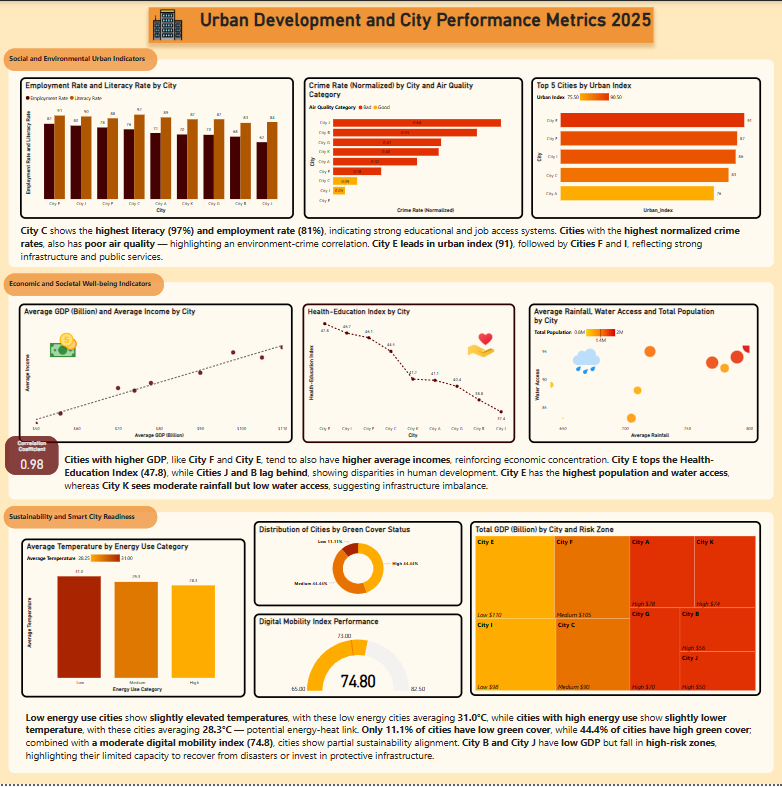

The page's visual inventory and layout, read from the dashboard file:
{"tool":"powerbi","page":{"name":"Page 1","canvas":[2160,2160],"ordinal":0},"visuals":[{"type":"shape","box":[410,18,1392,98],"z":0},{"type":"shape","box":[25,1408.3,2108.3,718.3],"z":1000},{"type":"shape","box":[25,775,2108.3,598.3],"z":2000},{"type":"shape","box":[25,161.2,2108.8,571.2],"z":3000},{"type":"image","box":[115.7,901.4,115.7,94.3],"z":4000},{"type":"image","box":[1276.7,901.7,101.7,93.3],"z":5000},{"type":"image","box":[1560,942.9,111.4,100],"z":6000},{"type":"textbox","box":[514,18,1288,98],"z":7000},{"type":"clusteredColumnChart","fields":{"Category":["Sheet2.City"],"Y":["Avg(Sheet2.Employment_Rate)","Avg(Sheet2.Literacy_Rate)"]},"box":[56.7,210,755,390],"z":8000},{"type":"scatterChart","fields":{"Category":["Sheet2.City"],"X":["Avg(Sheet2.GDP_Billion)"],"Y":["Avg(Sheet2.Avg_Income)"]},"box":[50,835,755,385],"z":9000},{"type":"barChart","fields":{"Category":["Sheet2.City"],"Y":["Sum(Sheet2.Crime_Rate_Normalized)"],"Series":["Sheet2.Air_Quality_Category"]},"box":[838.3,210,605,390],"z":10000},{"type":"donutChart","fields":{"Category":["Sheet2.Green_Cover_Category"],"Y":["CountNonNull(Sheet2.City)"]},"box":[701.2,1435.2,575,235],"z":11000},{"type":"lineChart","fields":{"Category":["Sheet2.City"],"Y":["Avg(Sheet2.HealthEdu_Index)"]},"box":[833.3,835,586.7,385],"z":12000},{"type":"columnChart","fields":{"Category":["Sheet2.Energy_Use_Category"],"Y":["Avg(Sheet2.Temperature)"]},"box":[58.3,1481.7,618.3,438.3],"z":13000},{"type":"gauge","title":"Digital Mobility Index Performance","fields":{"Y":["Avg(Sheet2.Digital_Mobility_Index)"],"MinValue":["Min(Sheet2.Digital_Mobility_Index)1"],"MaxValue":["Max(Sheet2.Digital_Mobility_Index)2"],"TargetValue":["Median(Sheet2.Digital_Mobility_Index)3"]},"box":[701.2,1687.7,575,232.5],"z":14000},{"type":"scatterChart","fields":{"Category":["Sheet2.City"],"X":["Avg(Sheet2.Rainfall)"],"Y":["Avg(Sheet2.Water_Access)"],"Size":["Sum(Sheet2.Population)"]},"box":[1458.3,835,633.3,385],"z":15000},{"type":"treemap","fields":{"Group":["Sheet2.City"],"Values":["Sum(Sheet2.GDP_Billion)"],"Details":["Sheet2.Risk_Zone"]},"box":[1296.2,1435.2,802.5,482.5],"z":16000},{"type":"clusteredBarChart","title":"Top 5 Cities by Urban Index","fields":{"Category":["Sheet2.City"],"Y":["Avg(Sheet2.Urban_Index)"]},"box":[1463.3,210,633.3,390],"z":17000},{"type":"textbox","box":[50,610,2035,122.5],"z":18000},{"type":"textbox","box":[65,1951.7,2035,175],"z":19000},{"type":"textbox","box":[174,1242,1906,132],"z":20000},{"type":"textbox","box":[11.7,131.7,423.3,61.7],"z":21000},{"type":"textbox","box":[11.2,752.5,441.2,61.2],"z":22000},{"type":"textbox","box":[11.7,1391.7,423.3,61.7],"z":23000},{"type":"image","box":[410,18,104,98],"z":24000},{"type":"card","title":"Correlation Coefficient","fields":{"Values":["Sheet2.Average GDP_Billion and Average Income correlation for City"]},"box":[12.5,1200,147.5,107.5],"z":25000}]}

Visuals, with their boxes in screenshot pixels (x1, y1, x2, y2), scaled from the page's 2160x2160 canvas onto the 782x787 screenshot:
shape: crop(148, 7, 652, 42)
shape: crop(9, 513, 772, 775)
shape: crop(9, 282, 772, 500)
shape: crop(9, 59, 773, 267)
image: crop(42, 328, 84, 363)
image: crop(462, 329, 499, 363)
image: crop(565, 344, 605, 380)
textbox: crop(186, 7, 652, 42)
clusteredColumnChart - Sheet2.City x Avg(Sheet2.Employment_Rate): crop(21, 77, 294, 219)
scatterChart - Sheet2.City x Avg(Sheet2.GDP_Billion): crop(18, 304, 291, 445)
barChart - Sheet2.City x Sum(Sheet2.Crime_Rate_Normalized): crop(303, 77, 523, 219)
donutChart - Sheet2.Green_Cover_Category x CountNonNull(Sheet2.City): crop(254, 523, 462, 609)
lineChart - Sheet2.City x Avg(Sheet2.HealthEdu_Index): crop(302, 304, 514, 445)
columnChart - Sheet2.Energy_Use_Category x Avg(Sheet2.Temperature): crop(21, 540, 245, 700)
"Digital Mobility Index Performance" gauge: crop(254, 615, 462, 700)
scatterChart - Sheet2.City x Avg(Sheet2.Rainfall): crop(528, 304, 757, 445)
treemap - Sheet2.City x Sum(Sheet2.GDP_Billion): crop(469, 523, 760, 699)
"Top 5 Cities by Urban Index" clusteredBarChart: crop(530, 77, 759, 219)
textbox: crop(18, 222, 755, 267)
textbox: crop(24, 711, 760, 775)
textbox: crop(63, 453, 753, 501)
textbox: crop(4, 48, 157, 70)
textbox: crop(4, 274, 164, 296)
textbox: crop(4, 507, 157, 530)
image: crop(148, 7, 186, 42)
"Correlation Coefficient" card: crop(5, 437, 58, 476)
